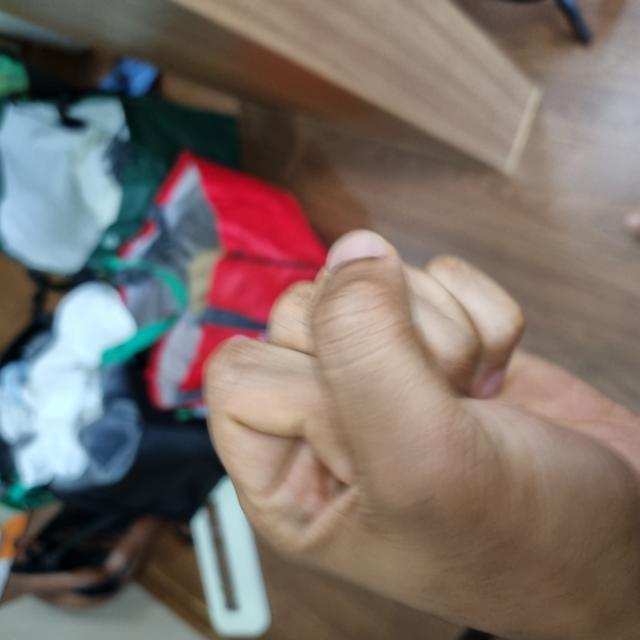Rock: (0, 208, 408, 639)
